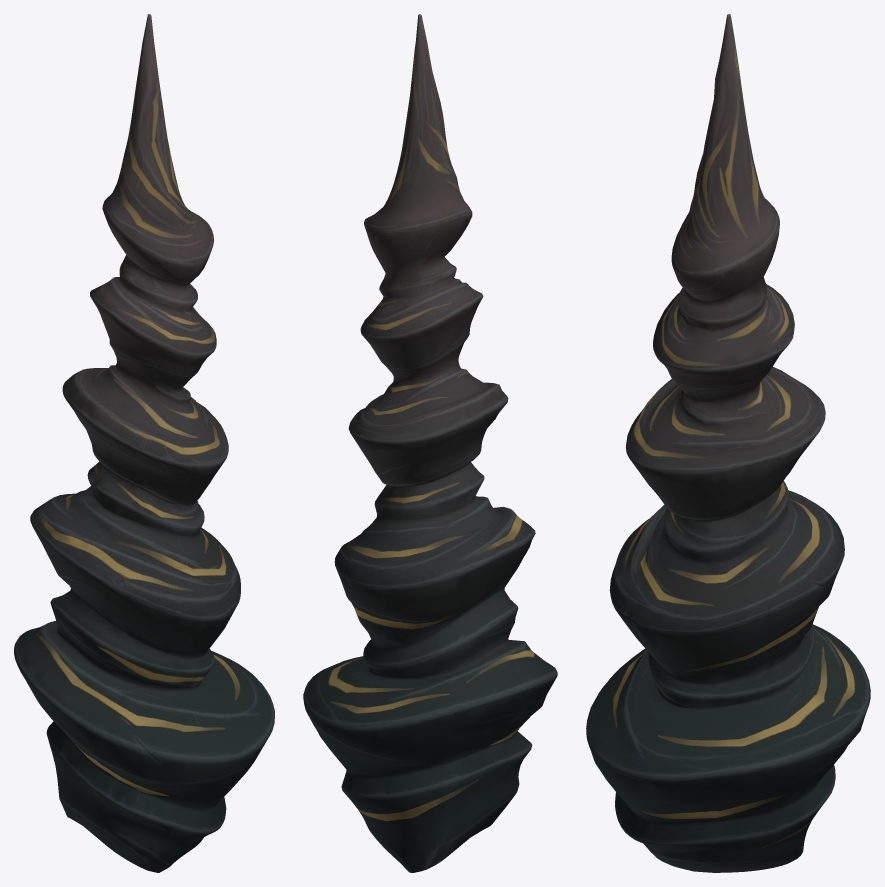
The model's file is spire_01_a1.glb.
3 views of the same model, side by side, from view 1: azimuth 30°, elevation 25°; view 2: azimuth 150°, elevation 25°; view 3: azimuth 270°, elevation 25° (orthographic). The views are drawn at different scales.
Parts seen in each view (by area): view 1: SM_KC_SPIRES_01_A_1; view 2: SM_KC_SPIRES_01_A_1; view 3: SM_KC_SPIRES_01_A_1.
Boxes of the visible parts, left/top/right/bottom form: SM_KC_SPIRES_01_A_1: left=14, top=14, right=274, bottom=872; SM_KC_SPIRES_01_A_1: left=303, top=14, right=557, bottom=872; SM_KC_SPIRES_01_A_1: left=586, top=14, right=870, bottom=872.
Bounding box in the file's own units: 5.5 × 19.89 × 5.94.
Materials: 1 (1 with a texture image).
